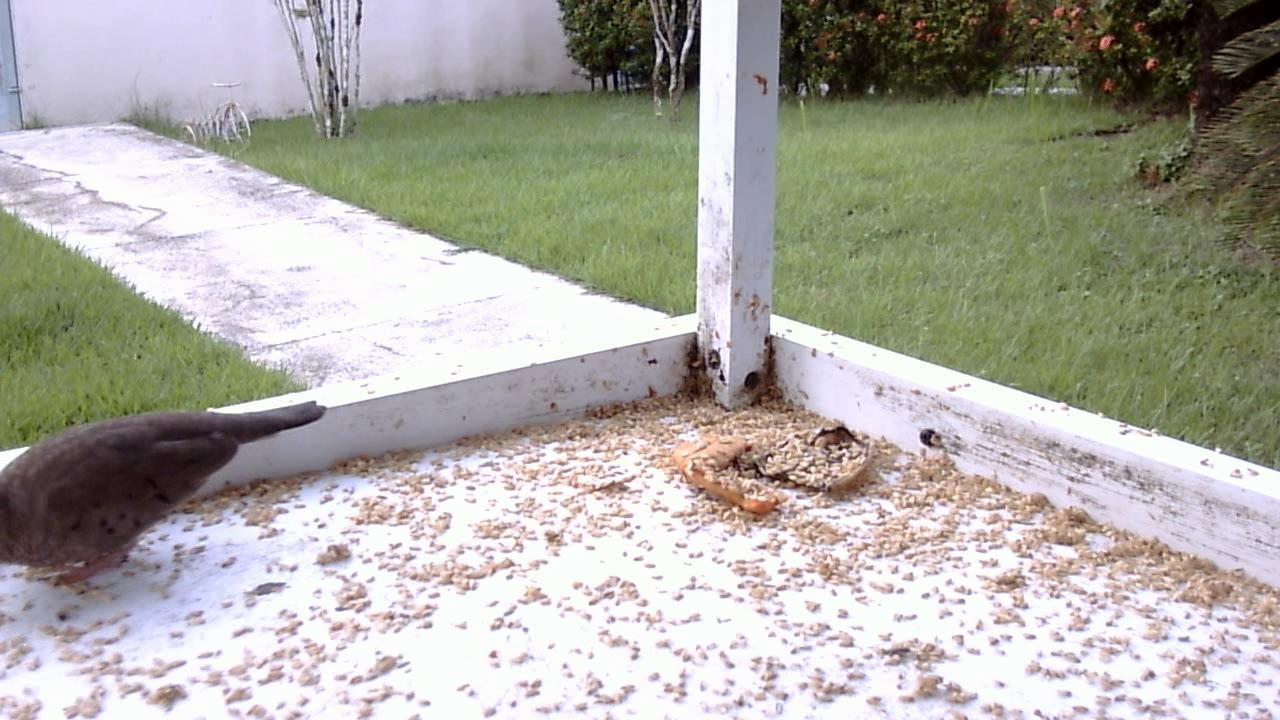rolinha: (1, 376, 338, 589)
